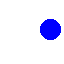circle: (40, 19, 60, 39)
